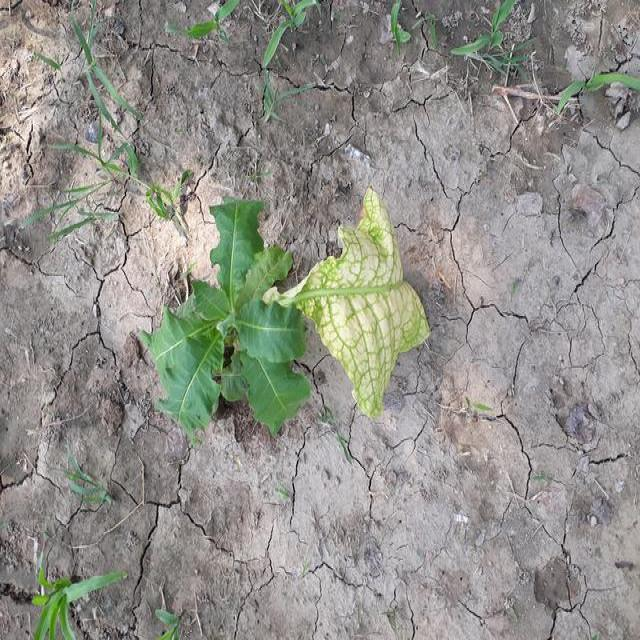crop: (142, 219, 435, 428)
